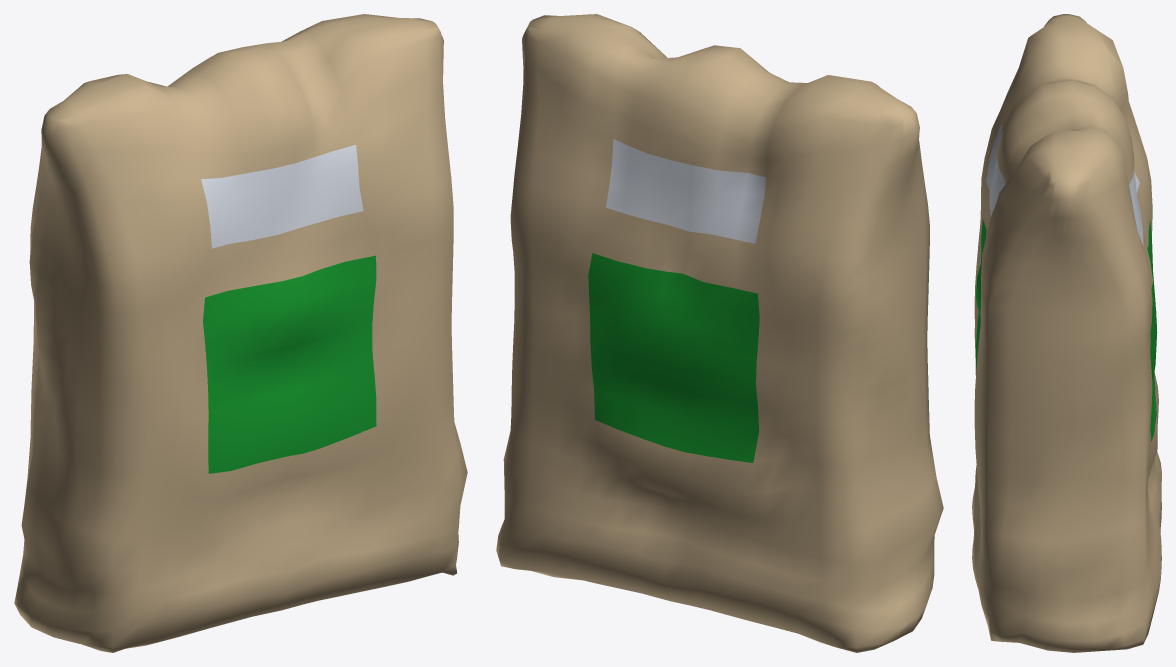
The model's file is MM_Fertzilizer.fbx.
3 renders of one model, left to right at view 1: azimuth 30°, elevation 25°; view 2: azimuth 150°, elevation 25°; view 3: azimuth 270°, elevation 25°, orthographic. The views are drawn at different scales.
Parts seen in each view (by area): view 1: bag; view 2: bag; view 3: bag.
Part boxes in pixels (box(x1,y1,x2,y2)): bag: box(14, 14, 467, 652); bag: box(496, 14, 943, 652); bag: box(972, 14, 1161, 652).
Bounding box in the file's own units: 47.68 × 60.95 × 21.2.
